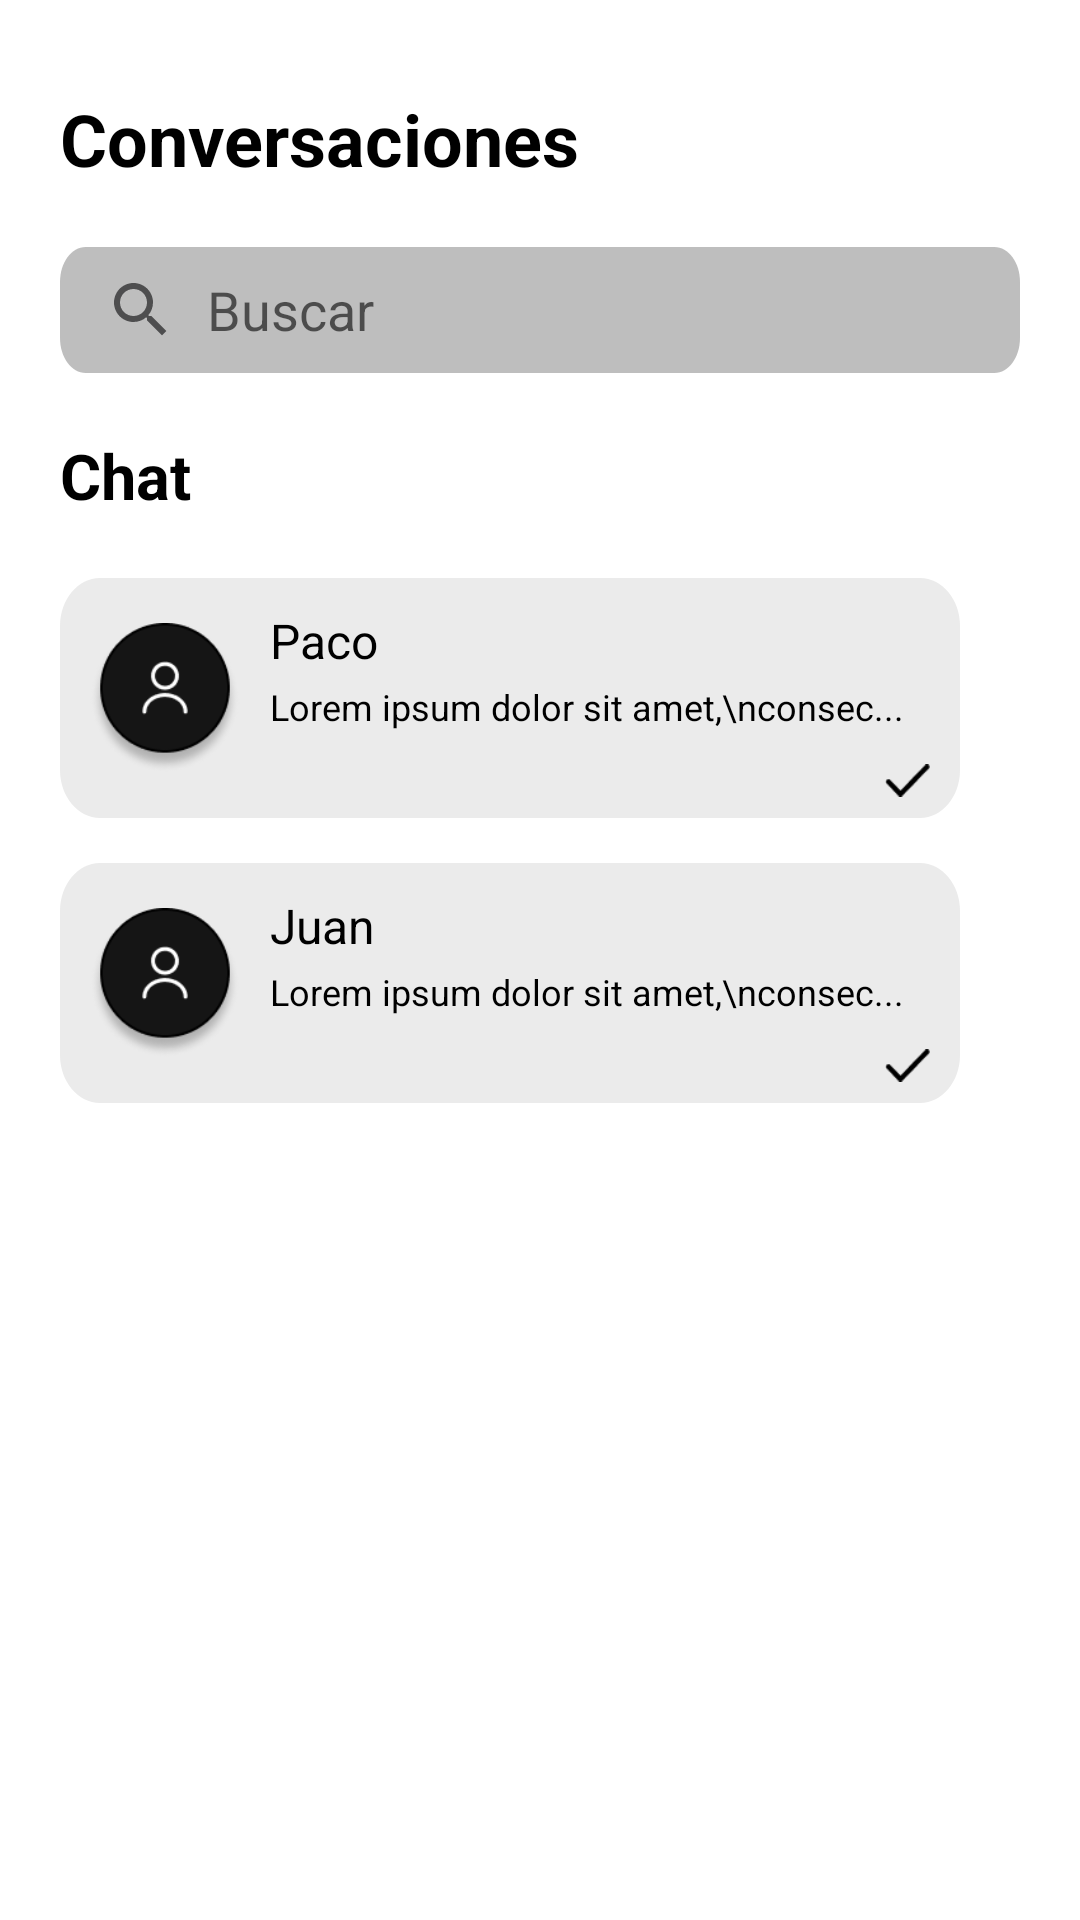

Icon bounding boxes for this 1080 x 1920 phone screenshot, format (x1, y1, x2, y2):
iconocheckchat: (885, 764, 930, 797), (885, 1049, 930, 1082)
